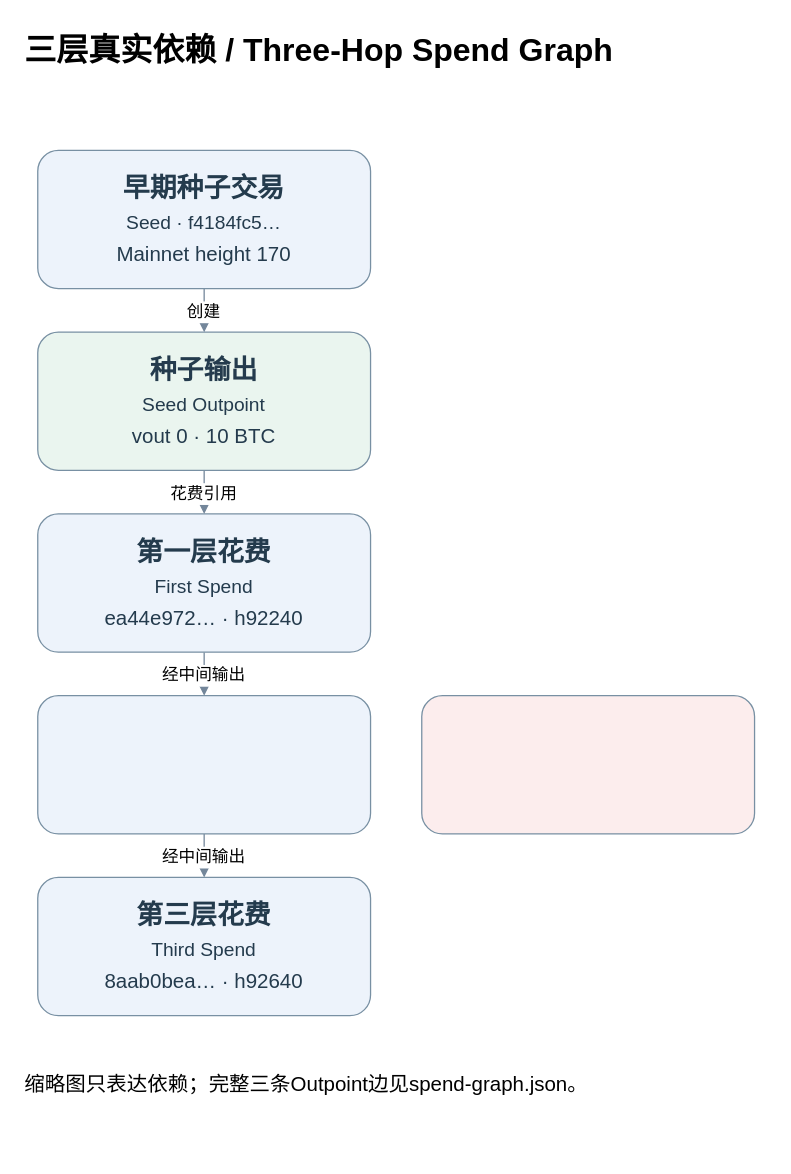
Some shapes in this 791 by 1174 pixel diagram are drawn without their labels. Here are the shapes that lost their labels. From the top down, the centre of each, then its label:
At (203,764): "第二层花费 Second Spend dd11322d… · h92241".
At (587,764): "其他输入输出 Other Inputs / Outputs 每一层可能分支或合并".
